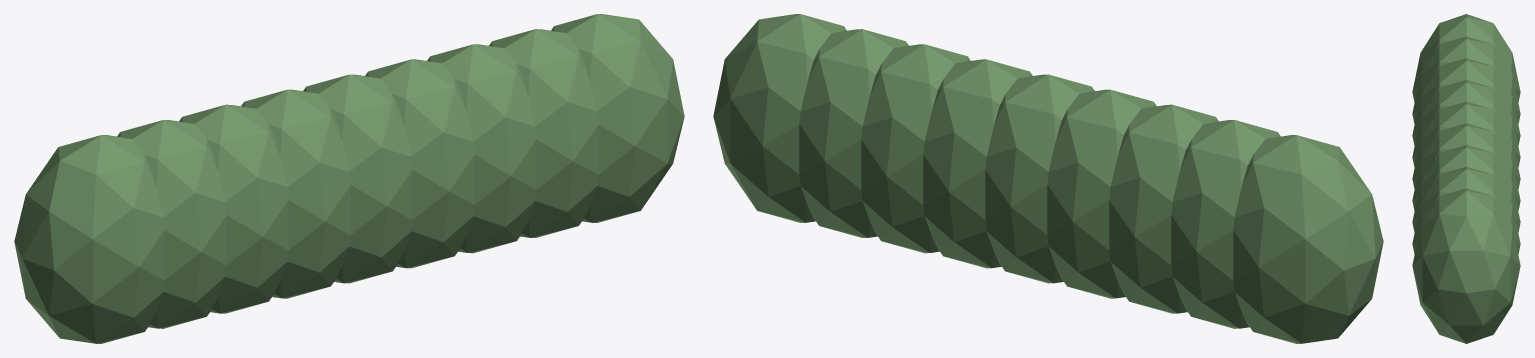
Rendered from hecke_sommer_4m.glb.
The picture shows the model from 3 angles, left to right: view 1: azimuth 30°, elevation 25°; view 2: azimuth 150°, elevation 25°; view 3: azimuth 270°, elevation 25°; orthographic projection. The views are drawn at different scales.
Visible parts, largest first — view 1: hecke_sommer_4m_000, hecke_sommer_4m_008, hecke_sommer_4m_003, hecke_sommer_4m_004, hecke_sommer_4m_005, hecke_sommer_4m_006, hecke_sommer_4m_002, hecke_sommer_4m_007, hecke_sommer_4m_001; view 2: hecke_sommer_4m_000, hecke_sommer_4m_008, hecke_sommer_4m_003, hecke_sommer_4m_004, hecke_sommer_4m_005, hecke_sommer_4m_006, hecke_sommer_4m_002, hecke_sommer_4m_007, hecke_sommer_4m_001; view 3: hecke_sommer_4m_008, hecke_sommer_4m_000, hecke_sommer_4m_006, hecke_sommer_4m_002, hecke_sommer_4m_005, hecke_sommer_4m_001, hecke_sommer_4m_007, hecke_sommer_4m_003, hecke_sommer_4m_004.
Boxes of the visible parts, box(x1,y1,x2,y2) form: hecke_sommer_4m_000: box(14, 135, 164, 343); hecke_sommer_4m_008: box(551, 14, 684, 222); hecke_sommer_4m_003: box(241, 89, 350, 298); hecke_sommer_4m_004: box(303, 74, 412, 283); hecke_sommer_4m_005: box(365, 59, 474, 268); hecke_sommer_4m_006: box(427, 44, 536, 253); hecke_sommer_4m_002: box(179, 104, 288, 313); hecke_sommer_4m_007: box(489, 29, 598, 237); hecke_sommer_4m_001: box(117, 120, 226, 328); hecke_sommer_4m_000: box(1233, 135, 1383, 343); hecke_sommer_4m_008: box(713, 14, 846, 222); hecke_sommer_4m_003: box(1047, 89, 1156, 298); hecke_sommer_4m_004: box(985, 74, 1094, 283); hecke_sommer_4m_005: box(923, 59, 1032, 268); hecke_sommer_4m_006: box(861, 44, 970, 253); hecke_sommer_4m_002: box(1109, 104, 1218, 313); hecke_sommer_4m_007: box(799, 29, 908, 237); hecke_sommer_4m_001: box(1171, 120, 1280, 328); hecke_sommer_4m_008: box(1412, 188, 1520, 343); hecke_sommer_4m_000: box(1412, 14, 1520, 102); hecke_sommer_4m_006: box(1412, 145, 1520, 232); hecke_sommer_4m_002: box(1412, 58, 1520, 145); hecke_sommer_4m_005: box(1412, 123, 1520, 210); hecke_sommer_4m_001: box(1412, 36, 1520, 123); hecke_sommer_4m_007: box(1412, 166, 1520, 254); hecke_sommer_4m_003: box(1412, 80, 1520, 167); hecke_sommer_4m_004: box(1412, 101, 1520, 188).
Bounding box in the file's own units: 4.75 × 1.45 × 0.95.
